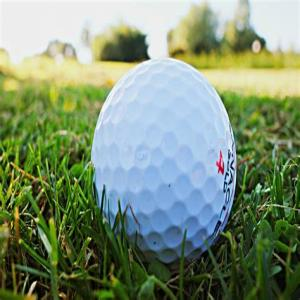Golf: (90, 58, 234, 266)
